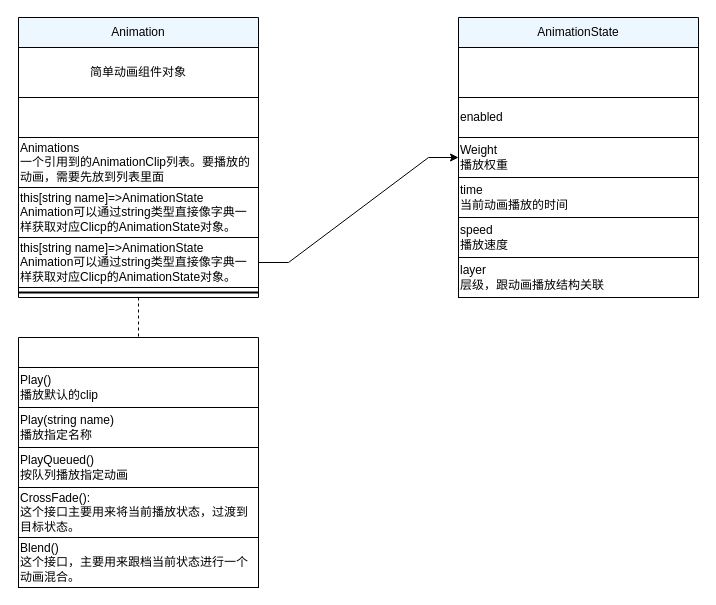
Image size: 716x605. Some labels were removed from this diagram. The shapes that lost their labels are listed below. From the top down, each one's box as (x1, y1, x2, y2) in pixels, then its label:
(458, 46, 698, 98): AnimationClip在Animation中的包装对象 这个对象实际上包含了Clicp的运行状态
(18, 96, 258, 138): clip 默认的AnimationClip对象
(18, 336, 258, 588): Animation方法集
